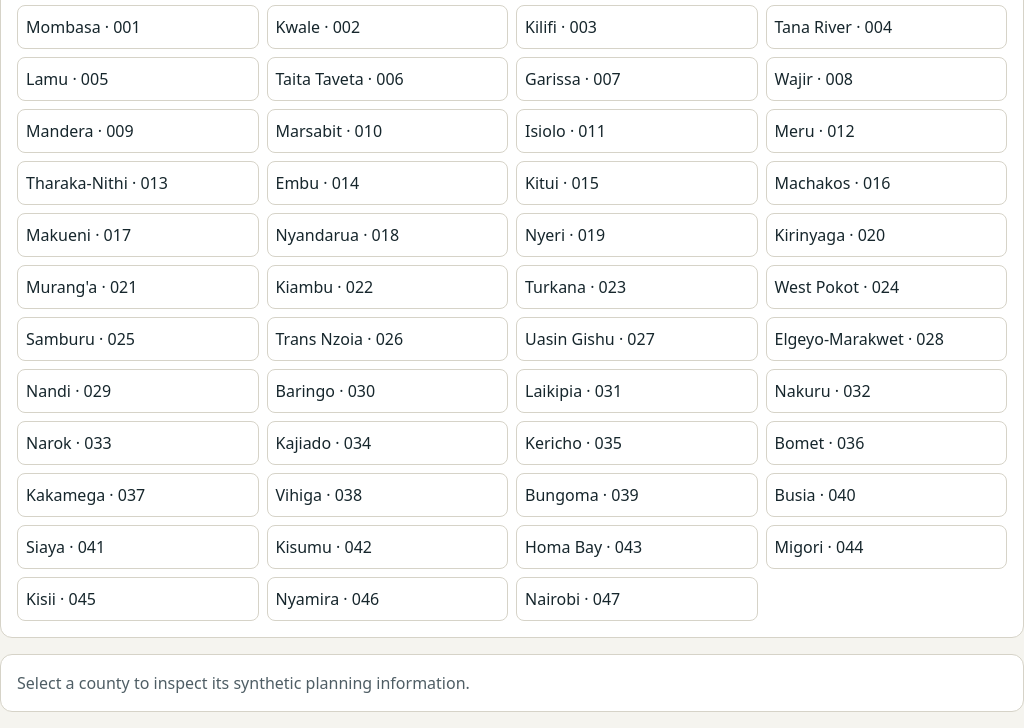
Test case: shows partial inputs without treating missing data as zero
(page scrolled)
Click the button "Nairobi · 047": (637, 599) [516,577,758,621]
(page scrolled)
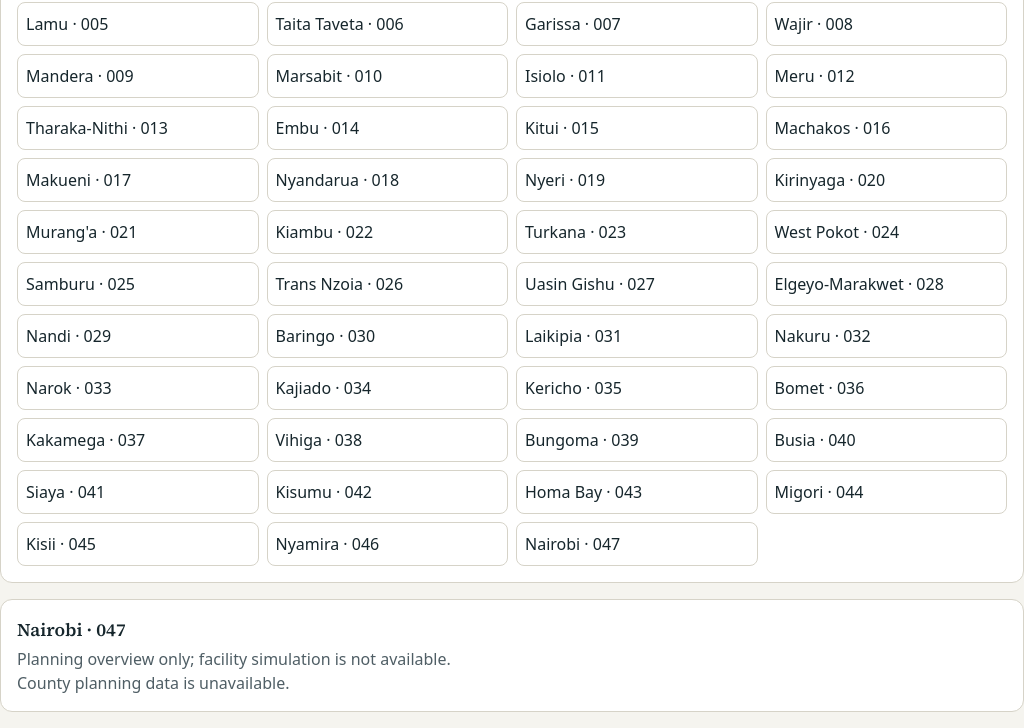
Expected: the text "County planning data is unavailable." is shown, [17,672,290,694]
